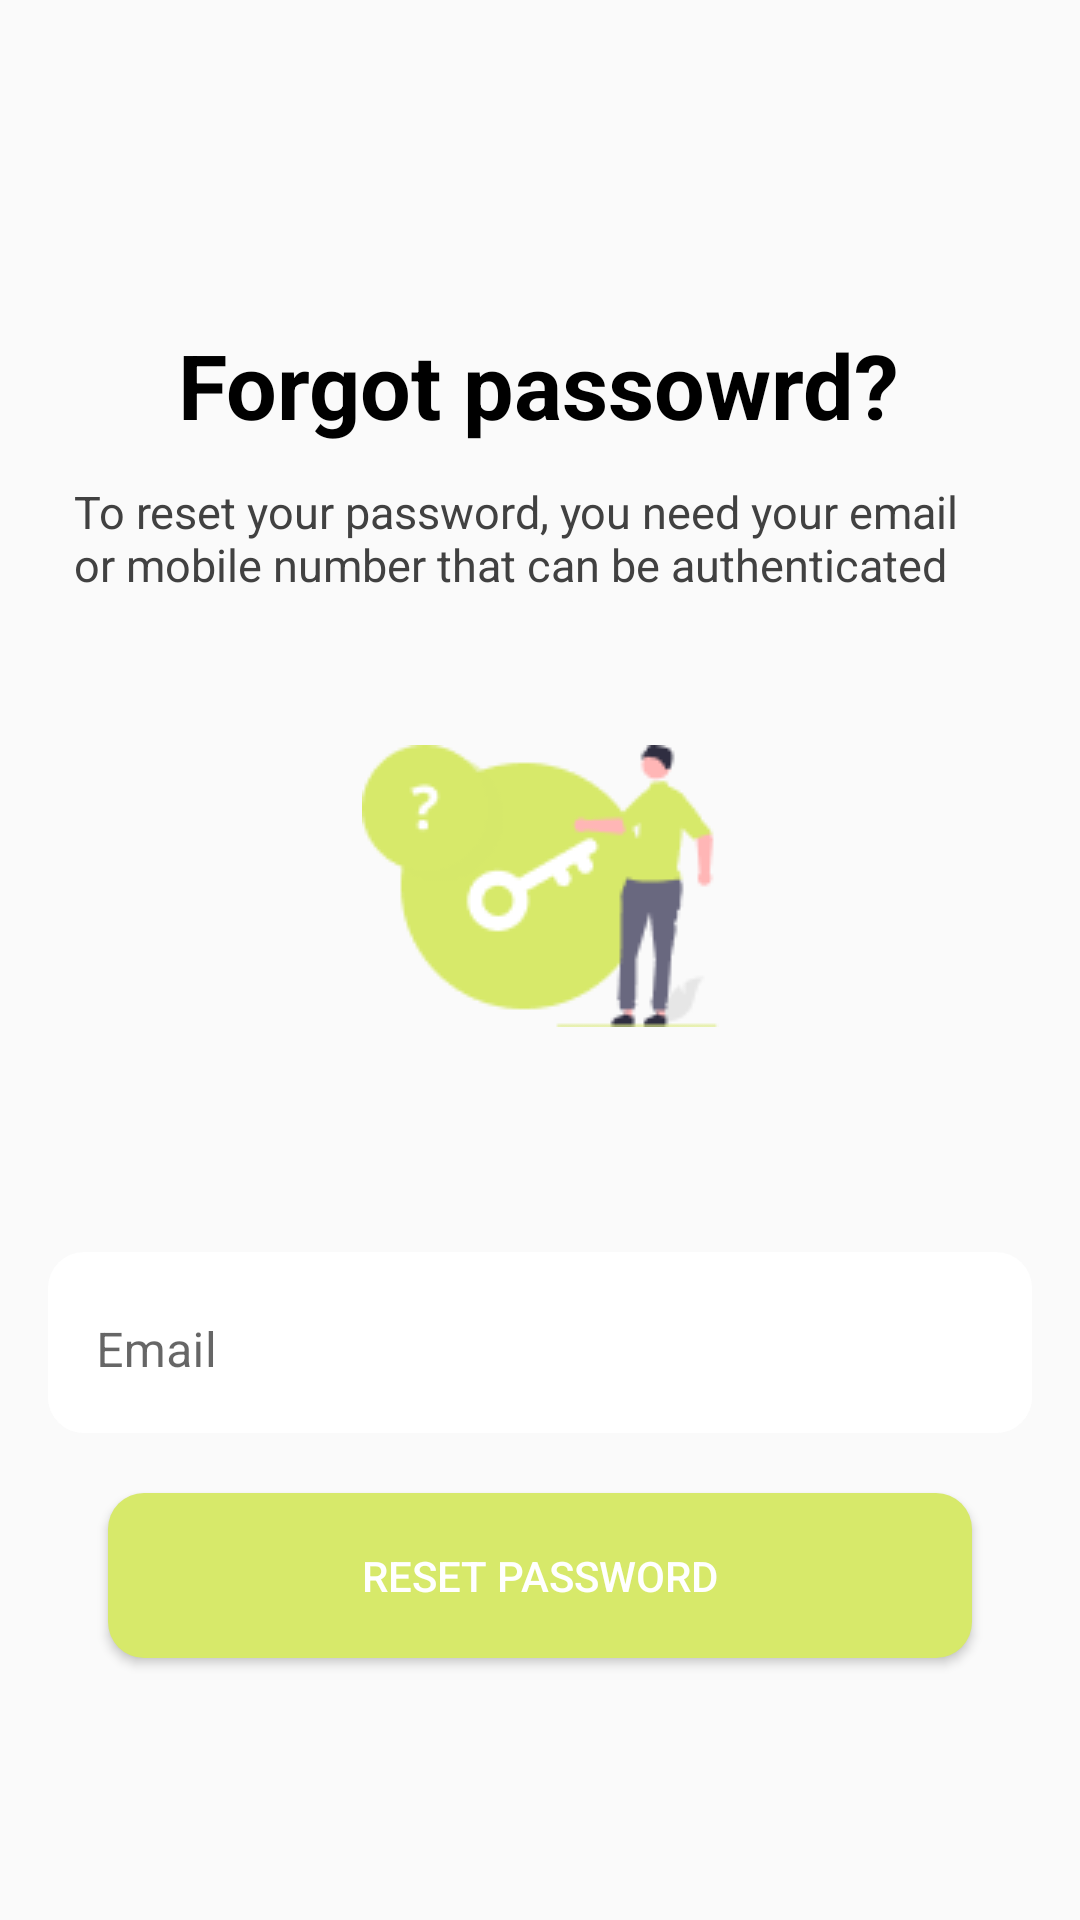

Icons on this 1080×1920 Android screen, each with its box as (x1, y1, x2, y2):
forgot password: (362, 745, 717, 1027)
